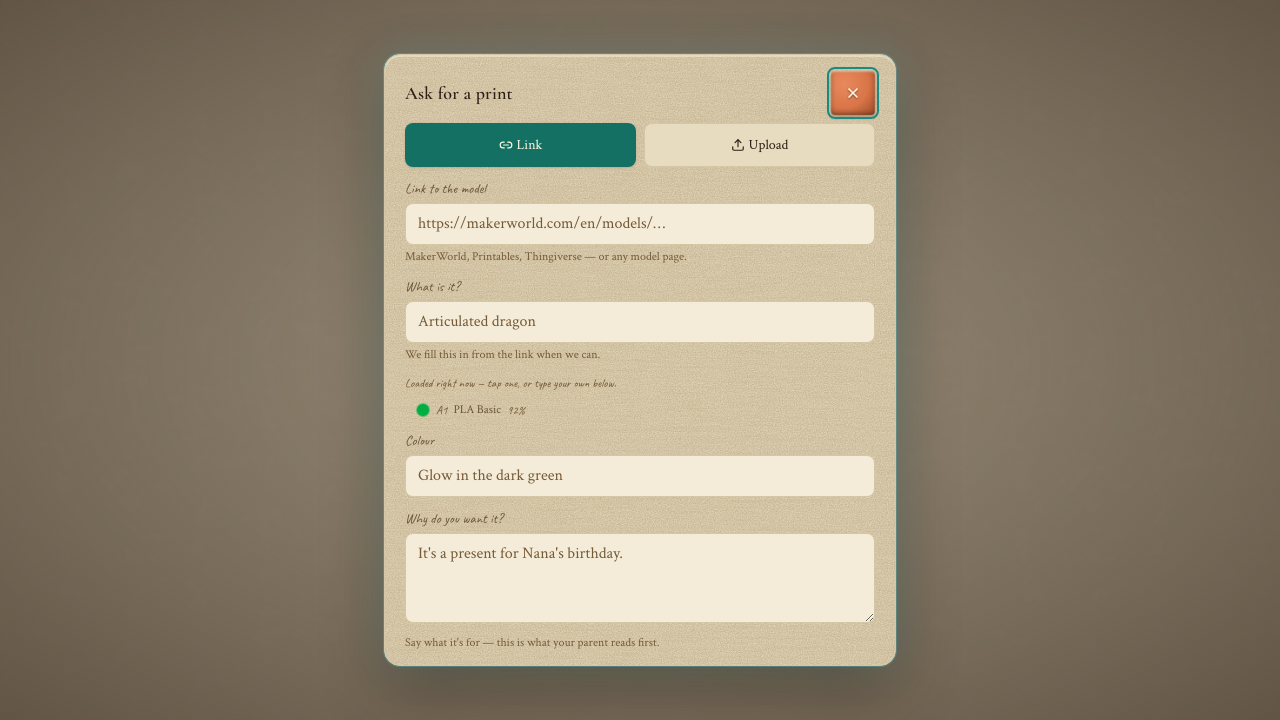
PrintRequestModal › fills the colour field from the filament loaded on the printer
The image size is (1280, 720).
Step 1. Click the button with aria-label "A1 · PLA Basic" → (470, 410), box [405,397,536,423]
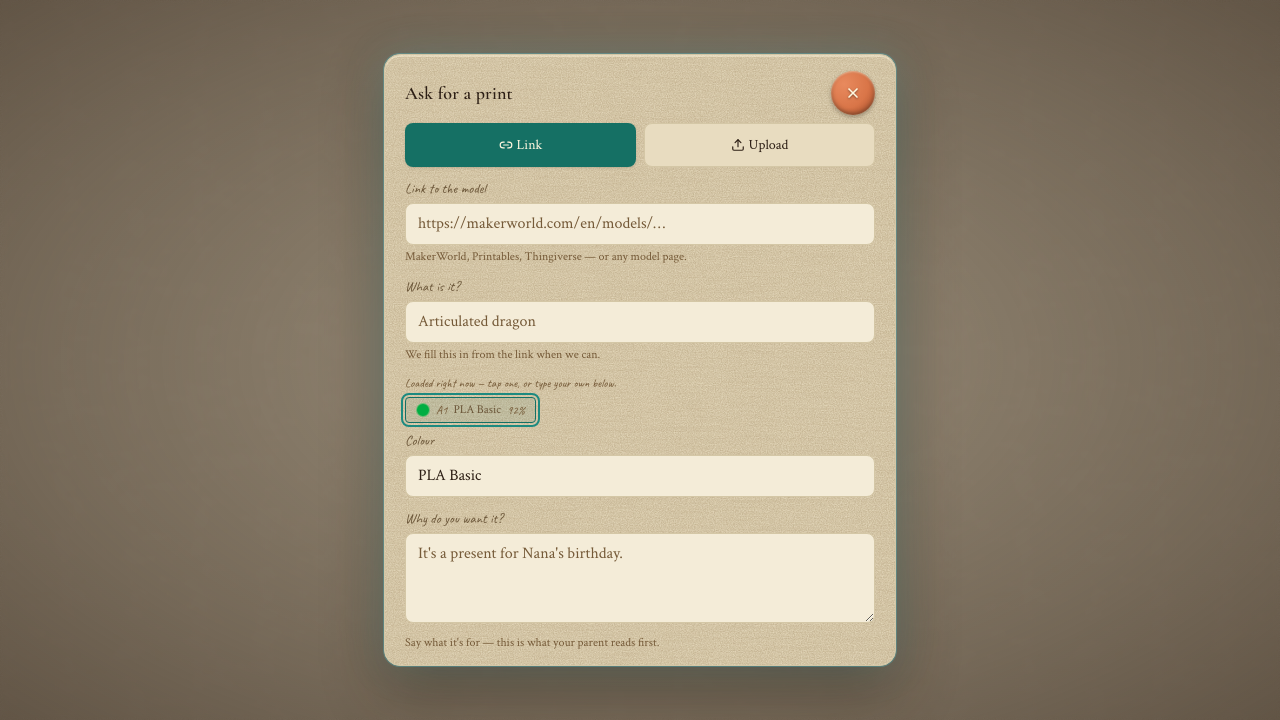
expect the field labelled "Colour" holds "PLA Basic": met, box [405,455,875,497]
